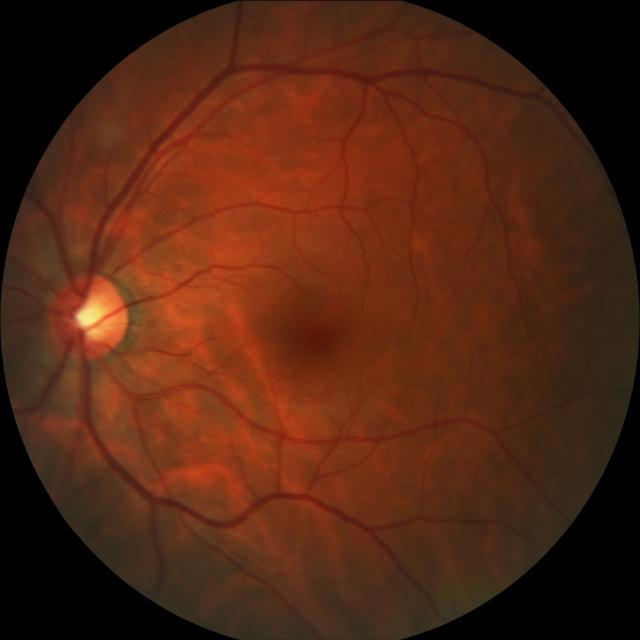OC: (71, 297, 115, 342)
OD: (47, 270, 129, 358)
